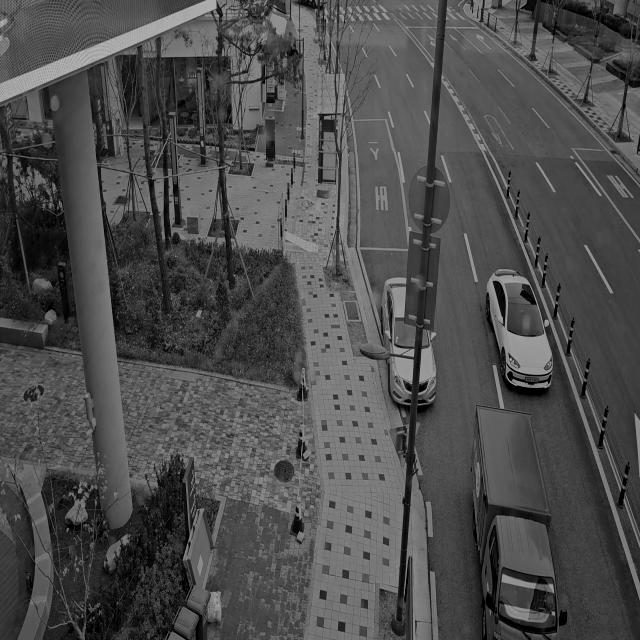Car: (368, 255, 442, 417), (483, 248, 562, 397)
Truck: (454, 394, 578, 640)
